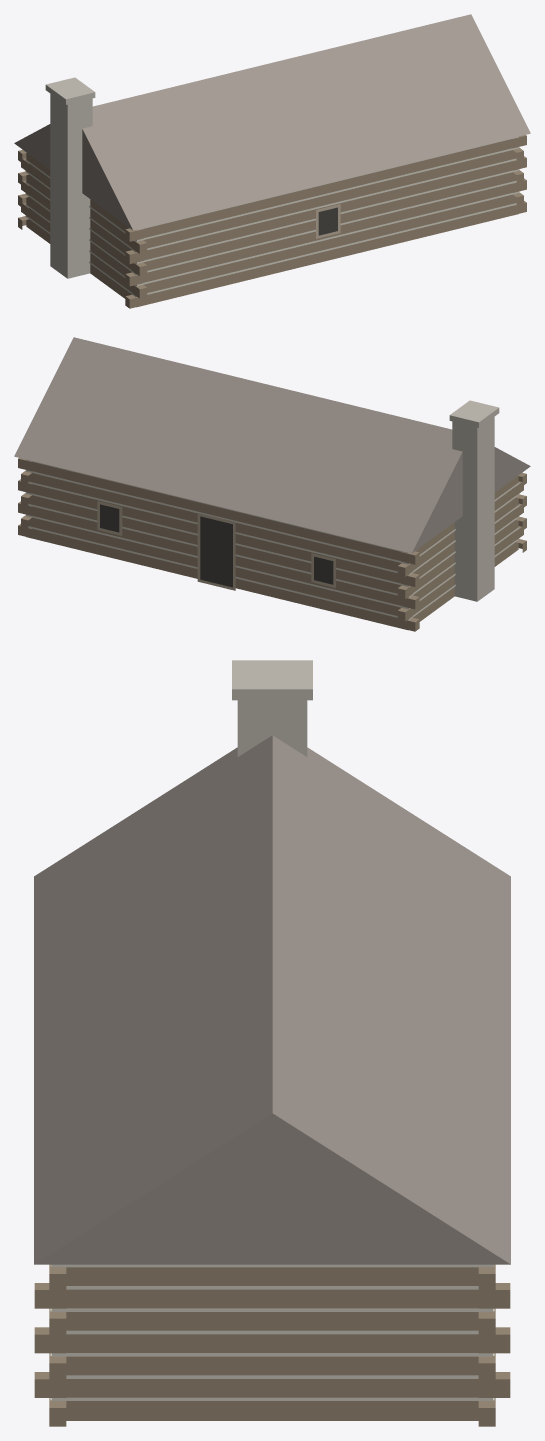
File: jb_beaubien_homestead__factory_1817.glb
3 views of the same model, one above another, from view 1: azimuth 30°, elevation 25°; view 2: azimuth 150°, elevation 25°; view 3: azimuth 270°, elevation 25° (orthographic). The views are drawn at different scales.
Visible parts, largest first — view 1: jb_beaubien_homestead__factory_1817; view 2: jb_beaubien_homestead__factory_1817; view 3: jb_beaubien_homestead__factory_1817.
Boxes of the visible parts, <box> form: jb_beaubien_homestead__factory_1817: <box>14,14,530,308</box>; jb_beaubien_homestead__factory_1817: <box>14,337,530,631</box>; jb_beaubien_homestead__factory_1817: <box>34,660,510,1426</box>.
Bounding box in the file's own units: 13.26 × 5.59 × 6.6.
